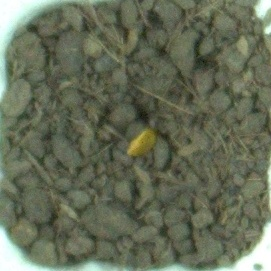pepper seed: (47, 47, 204, 205)
